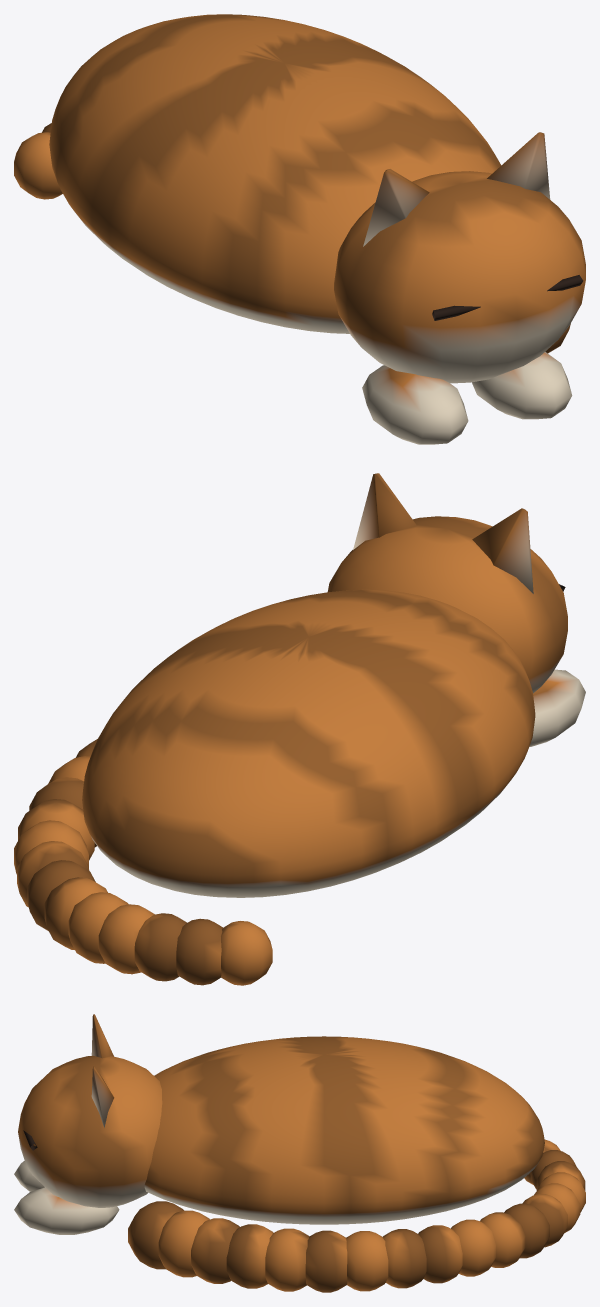
The model's file is CatLoaf.glb.
The picture shows the model from 3 angles, top to bottom: view 1: azimuth 30°, elevation 25°; view 2: azimuth 150°, elevation 25°; view 3: azimuth 270°, elevation 25°; orthographic projection. The views are drawn at different scales.
Parts seen in each view (by area): view 1: LoafBody, LoafHead, LoafTail, LoafEyes; view 2: LoafBody, LoafHead, LoafTail; view 3: LoafBody, LoafTail, LoafHead.
Part boxes in pixels (x1,y1,x2,y2): LoafBody: (49,14,501,333); LoafHead: (334,132,585,444); LoafTail: (14,123,570,353); LoafEyes: (432,275,583,320); LoafBody: (82,589,535,897); LoafHead: (327,473,585,746); LoafTail: (14,739,272,985); LoafBody: (144,1036,544,1224); LoafTail: (128,1139,585,1292); LoafHead: (14,1014,162,1234).
Bounding box in the file's own units: 0.255 × 0.1574 × 0.4333.
